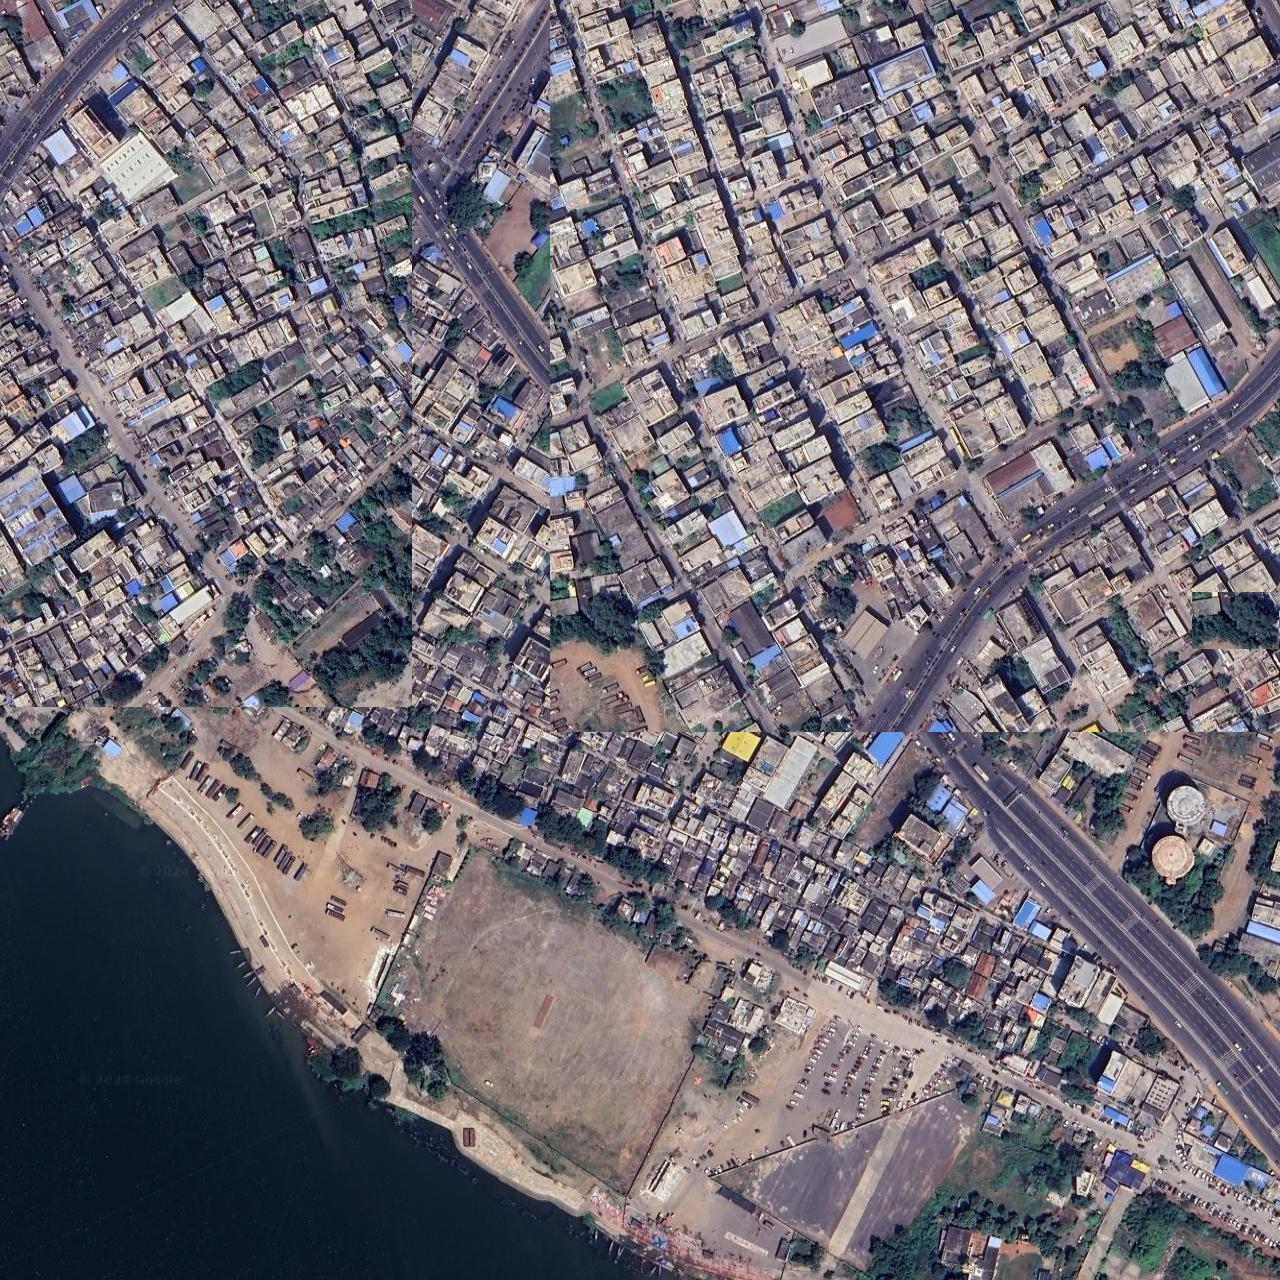greenery: (1123, 655, 1280, 974), (1192, 593, 1280, 649)
house: (550, 0, 1280, 731), (470, 520, 1115, 1280), (0, 0, 411, 707), (190, 263, 567, 729)
water: (0, 792, 645, 1280)
